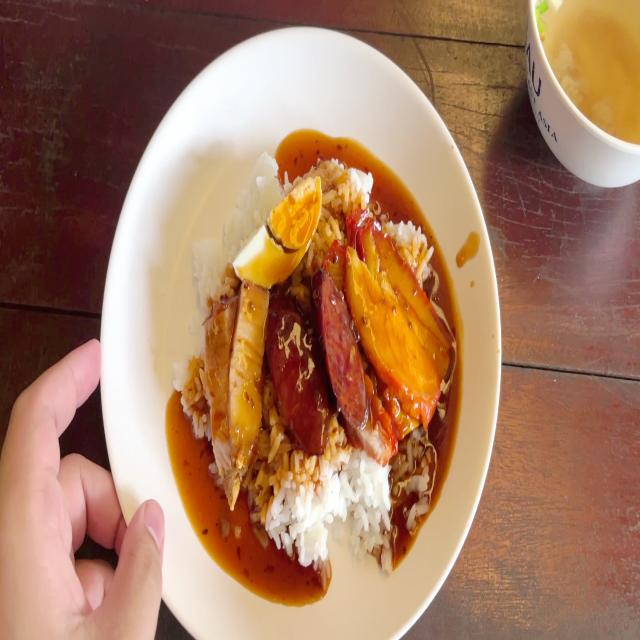boiled_egg: (241, 170, 320, 275)
chainese_sausage: (271, 287, 331, 448), (320, 270, 364, 417)
crispy_pork: (201, 287, 267, 493), (230, 288, 272, 452), (205, 293, 236, 487)
red_pork: (342, 245, 423, 405), (361, 218, 446, 368)
red_pork_and_crispy_pork: (188, 146, 440, 547)
rice: (268, 455, 389, 561)
